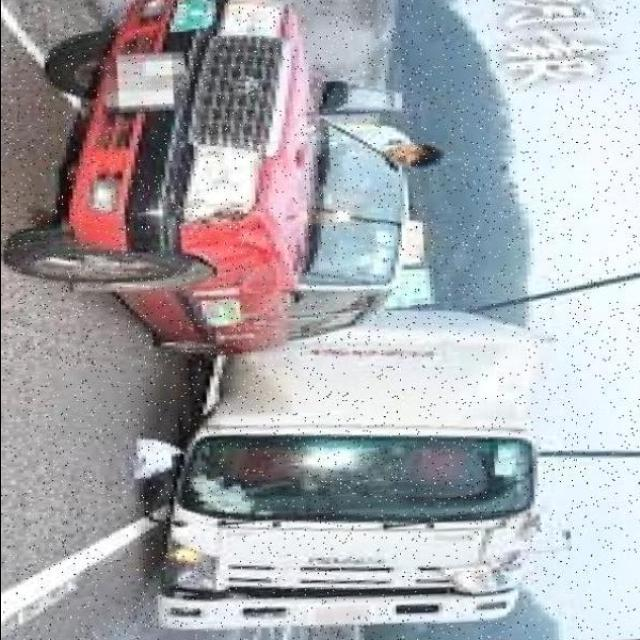accident: (115, 306, 585, 640)
